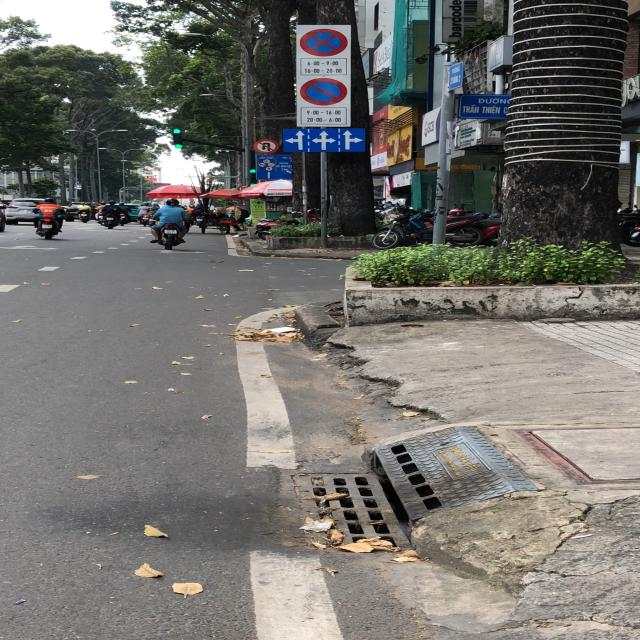Bien bao cam do xe: (298, 76, 345, 109)
Bien bao cam dung xe va do xe: (299, 26, 350, 58)
Bien bao cam quay dau xe: (250, 138, 284, 156)
